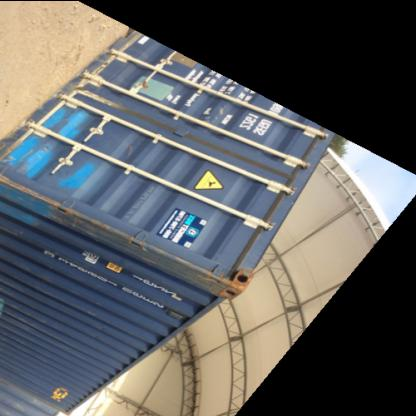Damage: (12, 184, 111, 234), (105, 224, 188, 264), (164, 263, 254, 295), (78, 72, 132, 112)
